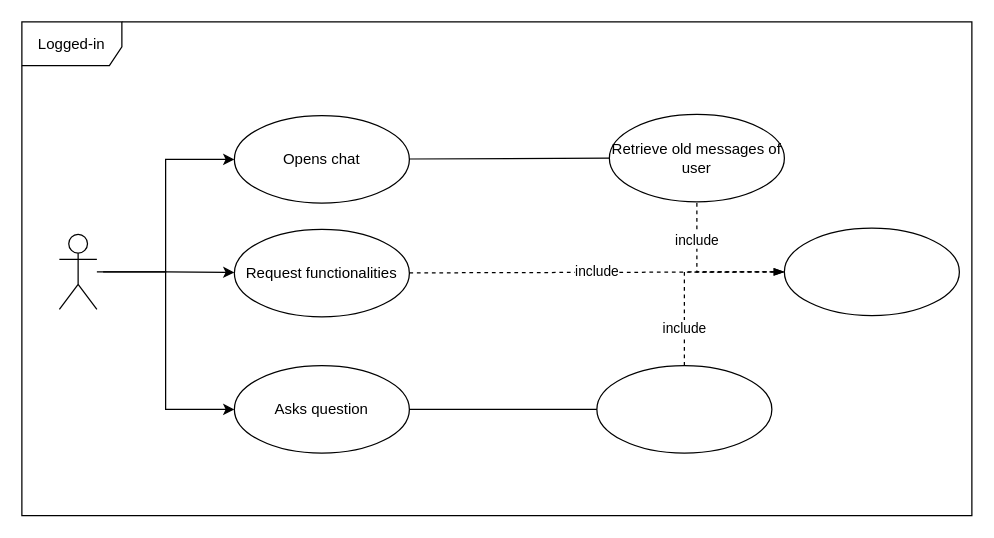
This 994x538 diagram has some shape labels left out. The shapes that lost their labels are listed below. From the top down, each one's centre as x and y in pixels, then its label:
At (77,271): "User".
At (871,271): "Makes request to database".
At (684,408): "Replies with an answer".
